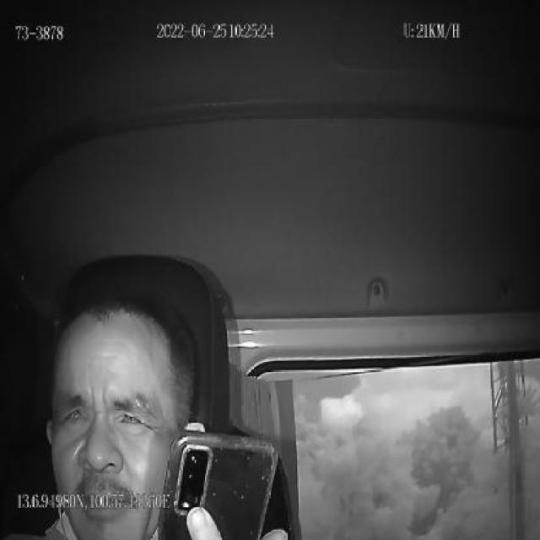phone: (158, 431, 278, 540)
